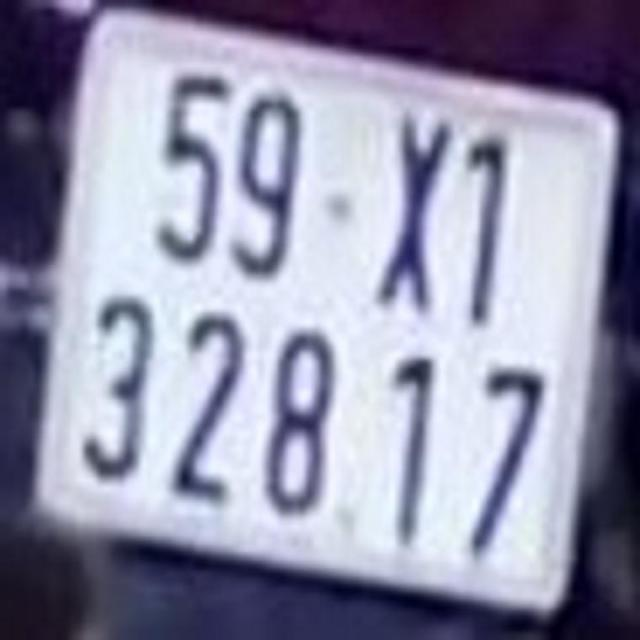1: (384, 353, 436, 546), (463, 126, 508, 324)
2: (168, 306, 247, 505)
3: (81, 286, 155, 488)
5: (152, 66, 228, 265)
7: (466, 360, 544, 555)
8: (263, 320, 337, 519)
9: (233, 84, 306, 279)
X: (370, 109, 454, 318)
